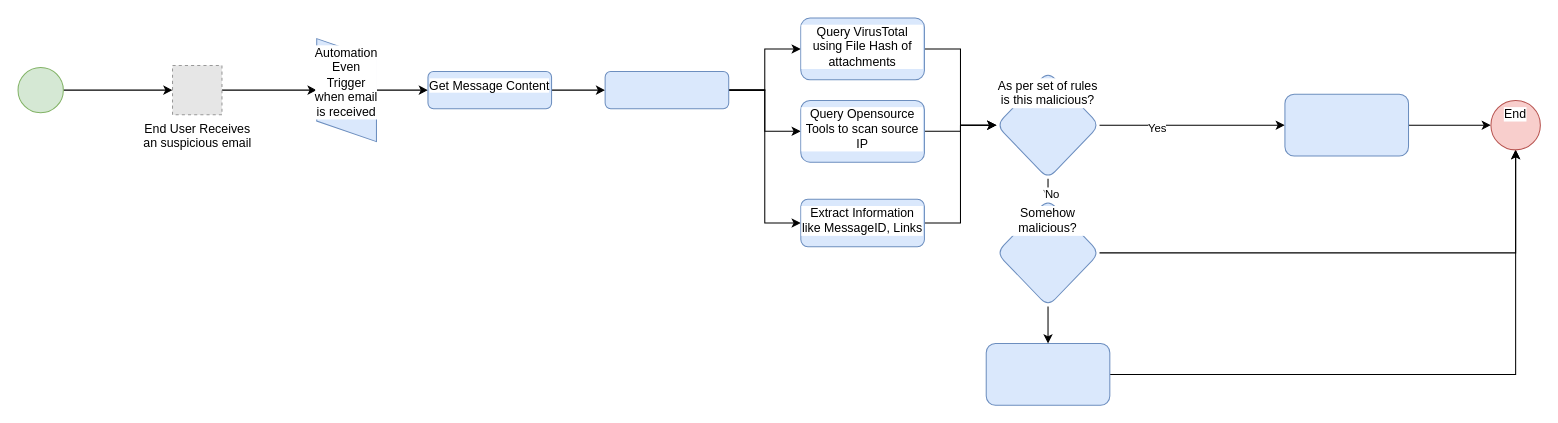
Some shapes in this 1558 by 423 pixel diagram are drawn without their labels. Grey dashed boxes stand in for pictures. The centre of each missing label's shape, as x and y in pixels:
"Create a ticket to the Servicenow for the analyst to investigate" goes at pixel 1047 373.
"Create API request to add Sender Email address to Blocklist" goes at pixel 1346 124.
"Extract Artifacts" goes at pixel 666 90.
"Start" goes at pixel 40 89.
